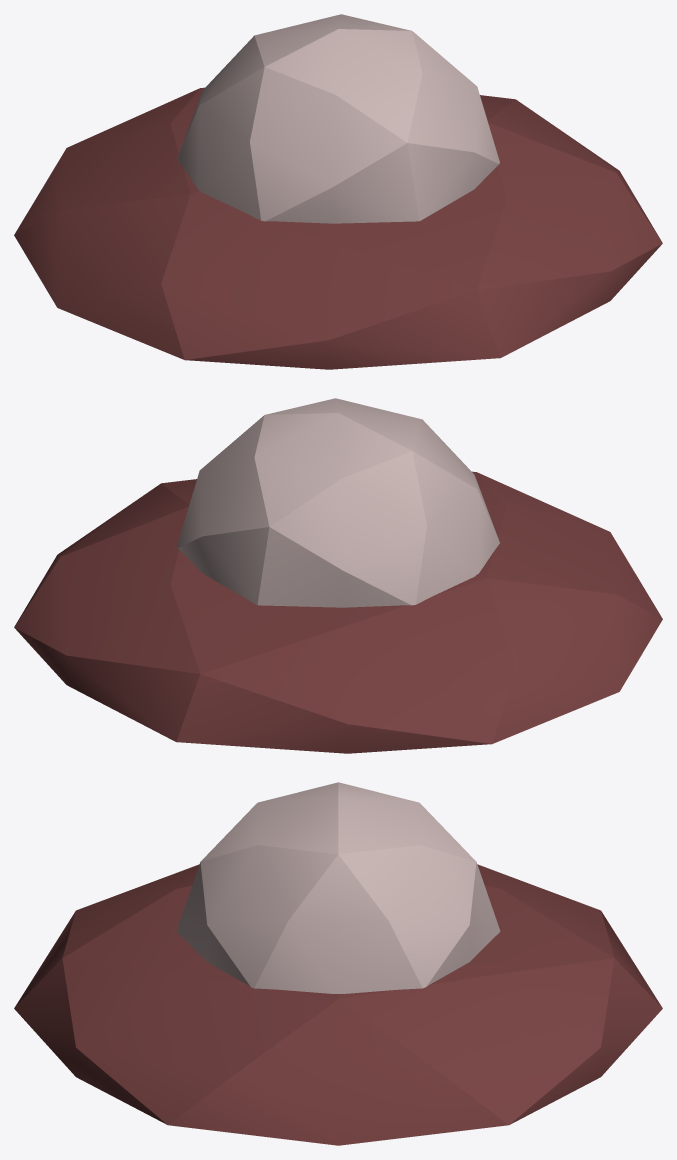
File: enemyspaceship.fbx
3 views of the same model, one above another, from view 1: azimuth 30°, elevation 25°; view 2: azimuth 150°, elevation 25°; view 3: azimuth 270°, elevation 25° (orthographic).
Parts seen in each view (by area): view 1: mergedBlocks; view 2: mergedBlocks; view 3: mergedBlocks.
Part boxes in pixels (bbox=[...]): mergedBlocks: bbox=[14, 14, 662, 369]; mergedBlocks: bbox=[14, 398, 662, 753]; mergedBlocks: bbox=[14, 782, 662, 1145].
Size of the model in its own units: 40 by 16.3 by 40.
